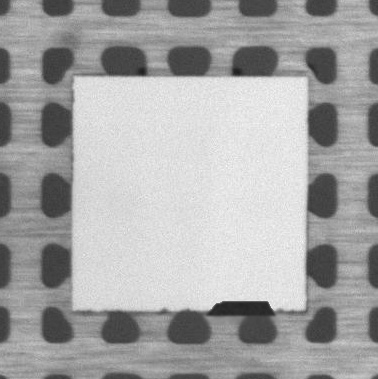DIE_BROKEN: (206, 300, 277, 318)
